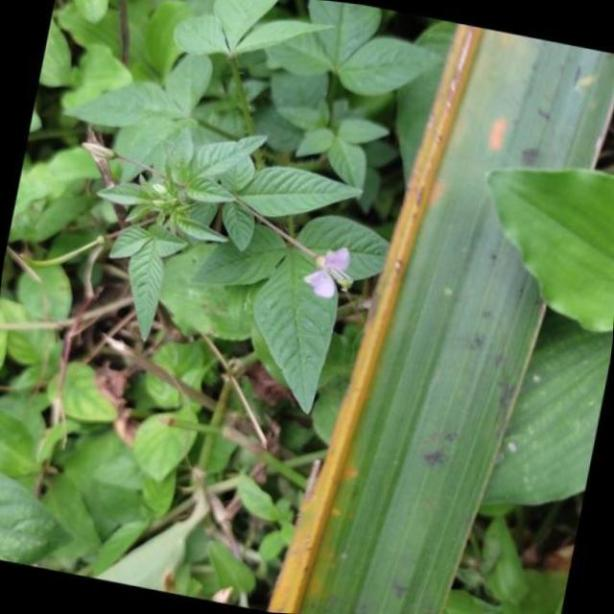Megnesium: (260, 22, 614, 613)
